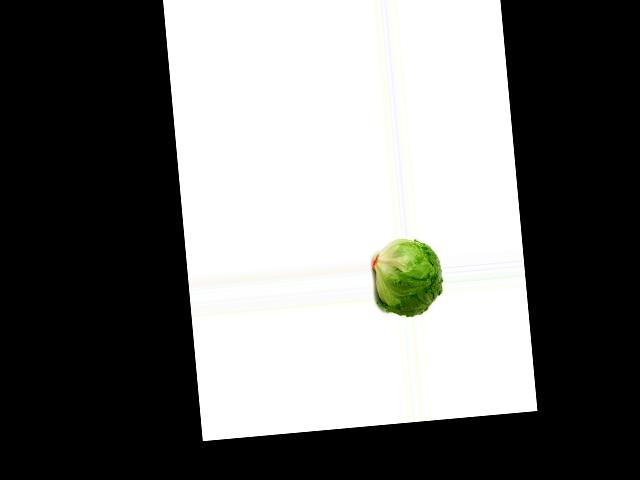lettuce: (372, 240, 445, 319)
